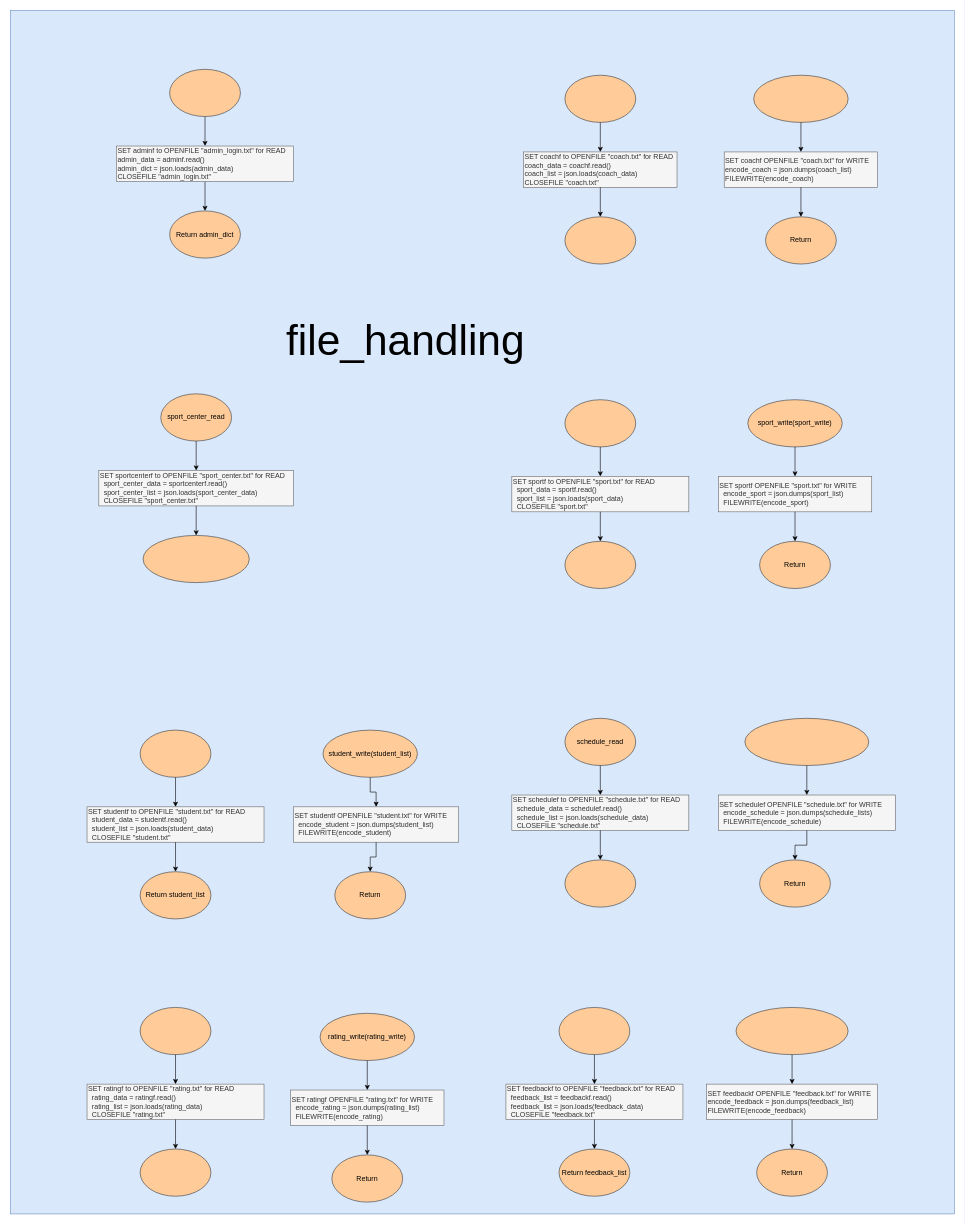
Some shapes in this 965 by 1224 pixel diagram are drawn without their labels. Here are the shapes that lost their labels. From the top down, the centre of each, then its label:
At (x=204, y=93): "admin_login_read".
At (x=600, y=98): "coach_read".
At (x=800, y=98): "coach_write(coach_list)".
At (x=600, y=240): "Return coach_list".
At (x=600, y=423): "sport_read".
At (x=195, y=559): "Return sport_center_list".
At (x=600, y=565): "Return sport_list".
At (x=175, y=753): "student_read".
At (x=806, y=742): "schedule_write(schedule_write)".
At (x=600, y=883): "Return schedule_list".
At (x=175, y=1031): "rating_read".
At (x=594, y=1031): "feedback_read".
At (x=791, y=1031): "feedback_write(feedback_list)".
At (x=175, y=1172): "Return rating_list".
